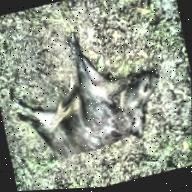boar: (8, 27, 178, 172)
